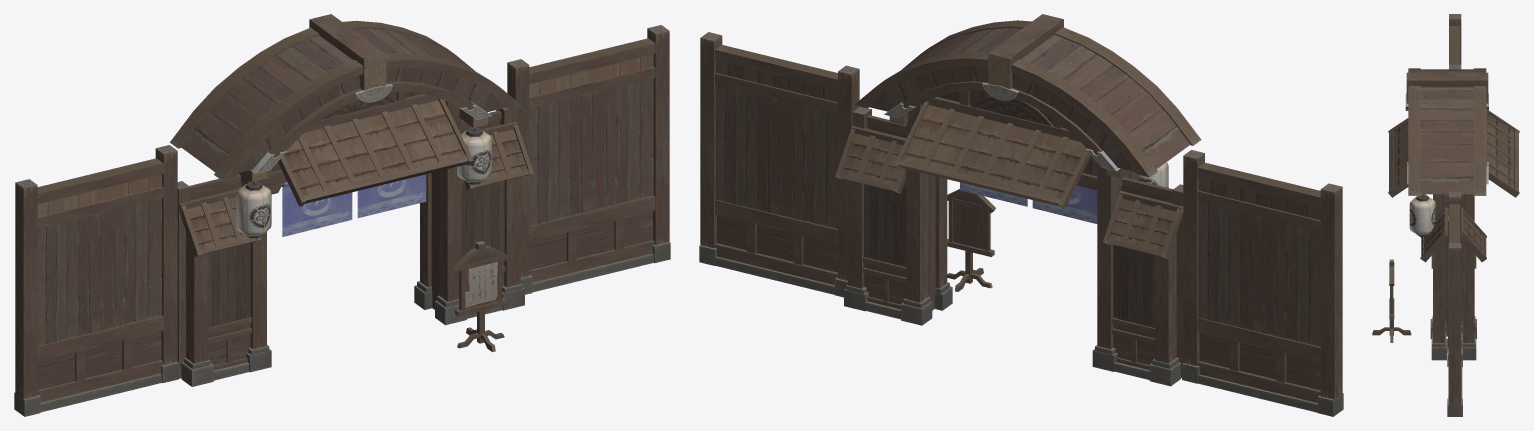
File: Homeworld_Exterior_Common_Thing_Wenquandamen_01_Lod0.fbx
3 views of the same model, side by side, from view 1: azimuth 30°, elevation 25°; view 2: azimuth 150°, elevation 25°; view 3: azimuth 270°, elevation 25° (orthographic). The views are drawn at different scales.
Parts seen in each view (by area): view 1: Homeworld_Exterior_Common_Thing_Wenquandamen_01_Lod0, Homeworld_Exterior_Common_Thing_Wenquandamen_01_A_Vo, Area_Dq_Light_MS_Lamp_05_Vo (×2); view 2: Homeworld_Exterior_Common_Thing_Wenquandamen_01_Lod0, Homeworld_Exterior_Common_Thing_Wenquandamen_01_A_Vo; view 3: Homeworld_Exterior_Common_Thing_Wenquandamen_01_Lod0, Area_Dq_Light_MS_Lamp_05_Vo.
Boxes of the visible parts, x1=… form: Homeworld_Exterior_Common_Thing_Wenquandamen_01_Lod0: x1=14, y1=14, x2=670, y2=416; Homeworld_Exterior_Common_Thing_Wenquandamen_01_A_Vo: x1=282, y1=174, x2=426, y2=236; Area_Dq_Light_MS_Lamp_05_Vo (×2): x1=236, y1=127, x2=491, y2=238; Homeworld_Exterior_Common_Thing_Wenquandamen_01_Lod0: x1=699, y1=14, x2=1343, y2=416; Homeworld_Exterior_Common_Thing_Wenquandamen_01_A_Vo: x1=960, y1=182, x2=1097, y2=223; Homeworld_Exterior_Common_Thing_Wenquandamen_01_Lod0: x1=1372, y1=14, x2=1519, y2=416; Area_Dq_Light_MS_Lamp_05_Vo: x1=1409, y1=194, x2=1435, y2=236.
Size of the model in its own units: 9.48 by 4.22 by 2.53.
